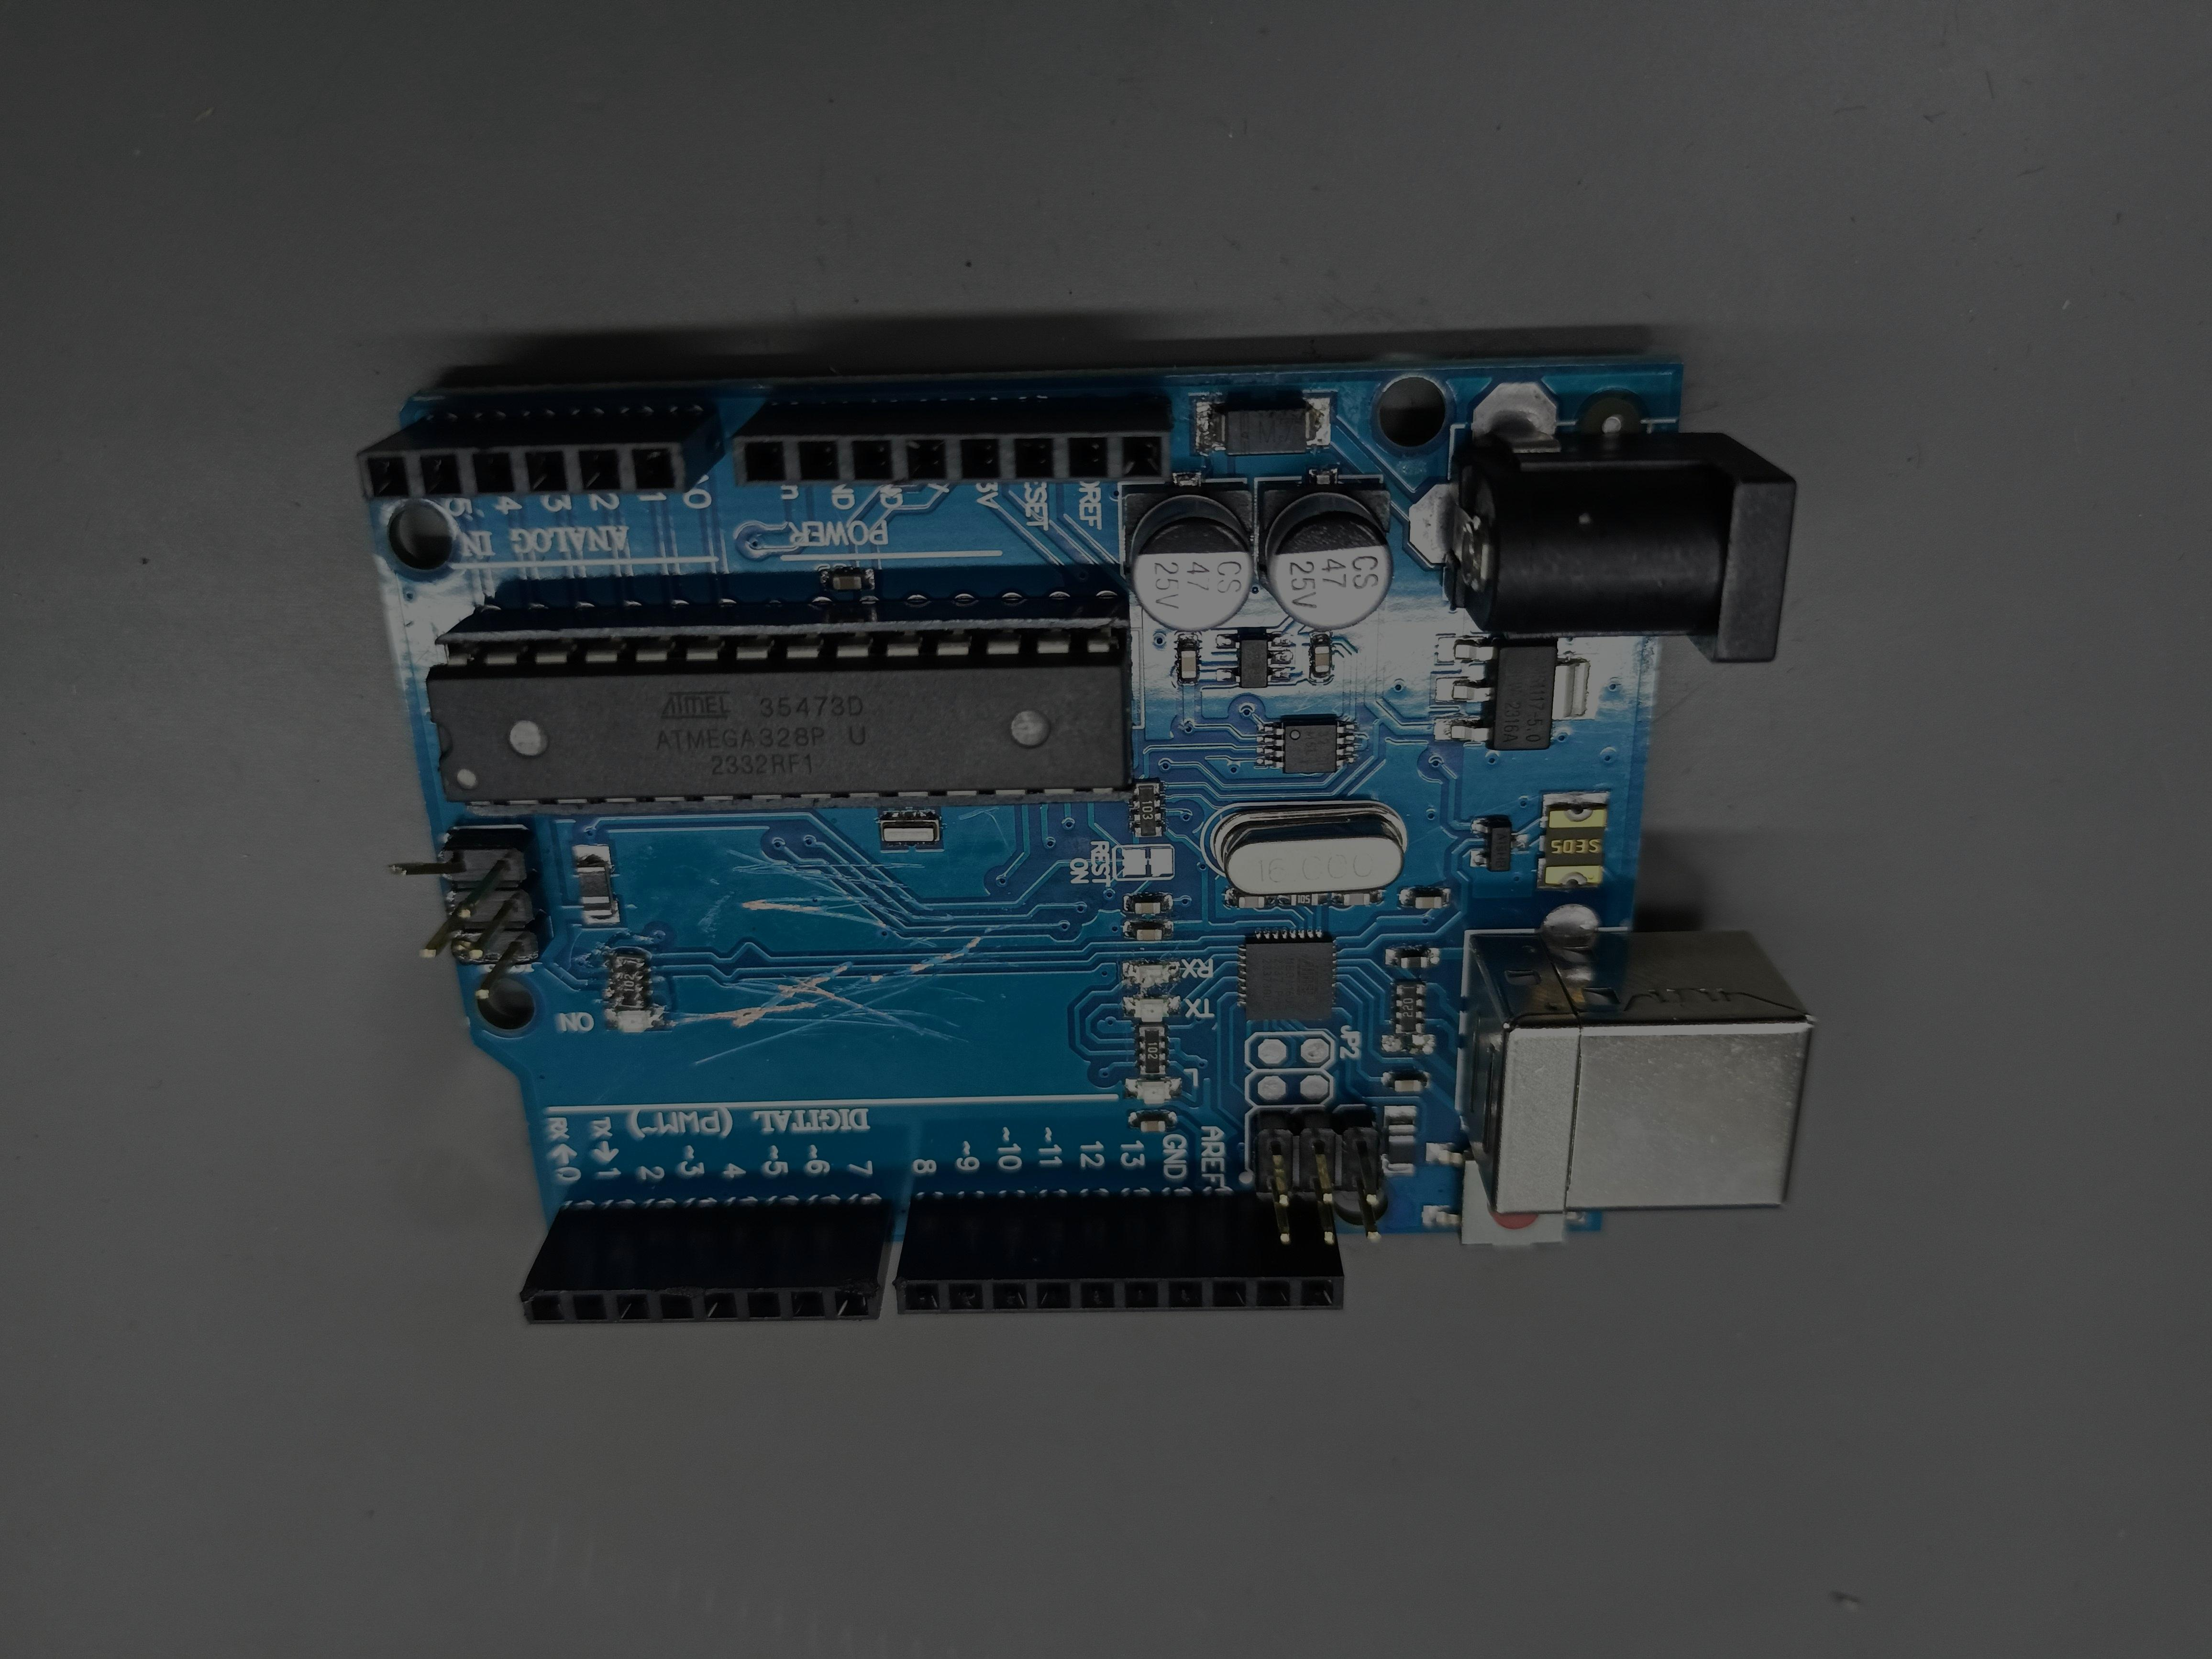ATmega328 chip: (425, 596, 1136, 816)
Arduino board: (357, 355, 1817, 1326)
Scratch: (667, 962, 968, 1042), (834, 922, 1017, 993), (742, 896, 953, 946), (725, 849, 925, 896), (1409, 786, 1538, 843), (695, 1021, 829, 1065), (909, 946, 1019, 988), (958, 807, 1012, 856), (697, 890, 733, 946), (838, 976, 923, 997), (928, 986, 986, 1002), (862, 988, 909, 1006), (723, 981, 780, 995), (972, 817, 991, 854), (632, 931, 665, 945), (841, 1014, 890, 1023), (759, 995, 786, 1007), (571, 953, 594, 967), (826, 1009, 852, 1019), (592, 941, 611, 955), (812, 997, 833, 1007), (615, 929, 634, 936), (651, 976, 665, 983), (624, 904, 637, 910), (711, 878, 719, 885), (592, 999, 603, 1004), (792, 997, 806, 1000), (822, 1014, 829, 1018), (833, 1006, 841, 1007)
USB: (1463, 931, 1815, 1213)
capacitor: (1258, 483, 1393, 631), (1125, 483, 1254, 633)
pins: (892, 1190, 1345, 1314), (519, 1199, 895, 1324), (730, 397, 1174, 488), (357, 411, 726, 504)
resistor: (610, 953, 648, 1009), (1132, 782, 1163, 836), (1395, 981, 1425, 1033), (1139, 1025, 1167, 1075)
